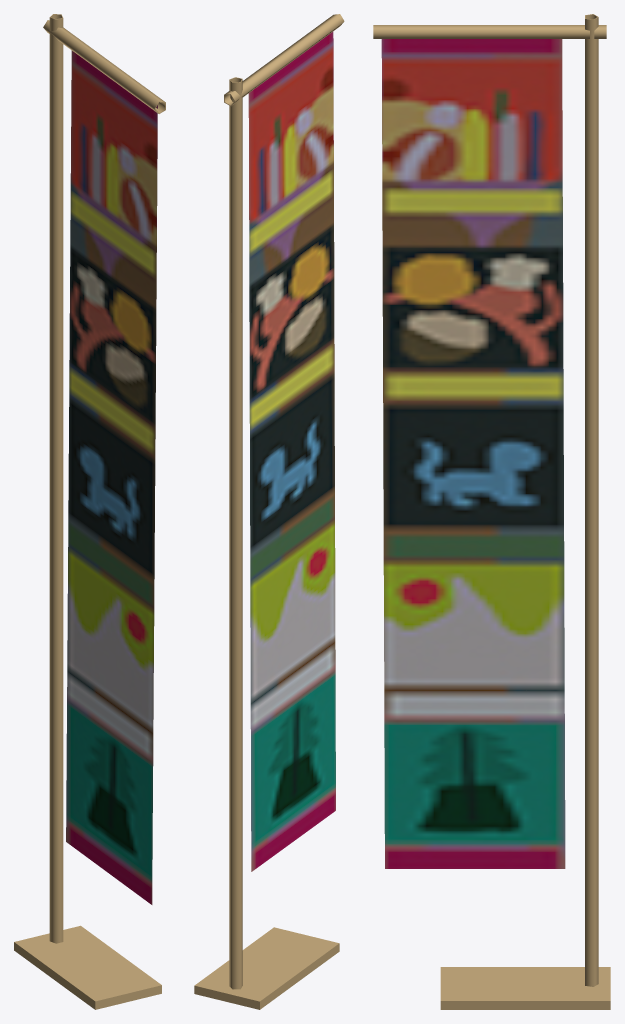
File: Flag04.fbx
The picture shows the model from 3 angles, left to right: view 1: azimuth 30°, elevation 25°; view 2: azimuth 150°, elevation 25°; view 3: azimuth 270°, elevation 25°; orthographic projection. The views are drawn at different scales.
Visible parts, largest first — view 1: Flag04; view 2: Flag04; view 3: Flag04.
Part boxes in pixels (x1,y1,x2,y2): Flag04: (14,14,165,1009); Flag04: (194,14,344,1009); Flag04: (373,14,610,1009).
Bounding box in the file's own units: 1.34 × 17.87 × 3.94.
Materials: 2 (1 with a texture image).
